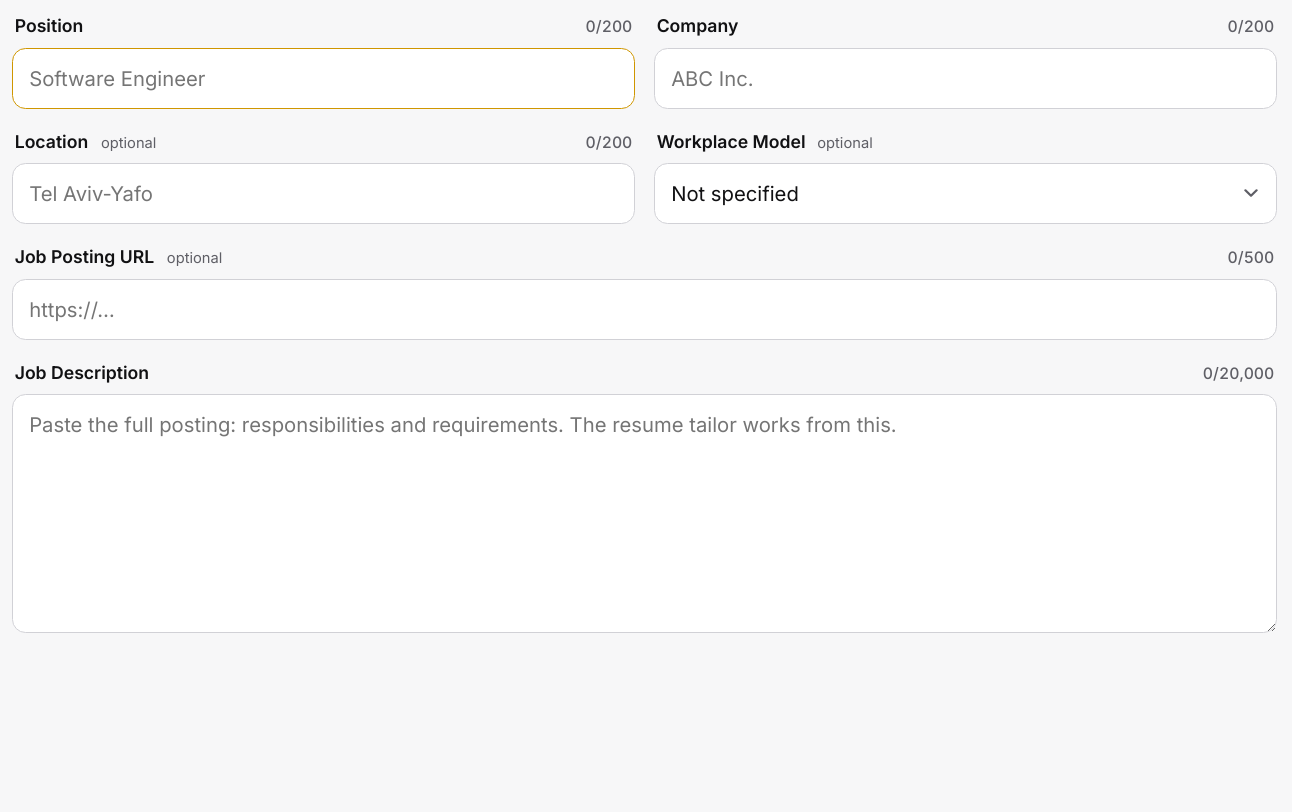
Scenario: JobPostForm duplicates › warns about the most recent application for the same position and company, with its date
Type "Backend Engineer" into the dropdown with placeholder "Software Engineer".
click(324, 78); type("Backend Engineer")  # box [12, 48, 635, 109]
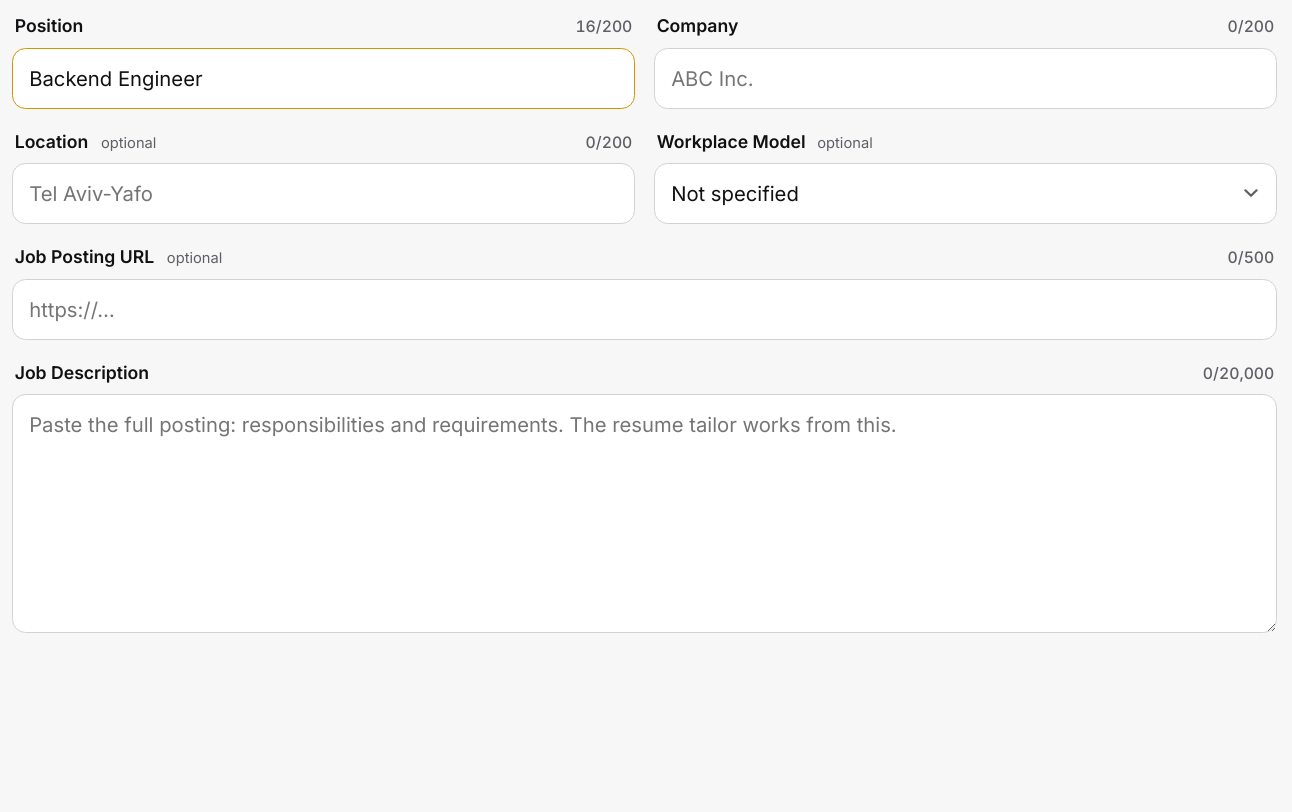
Type "Orbit" into the dropdown with placeholder "ABC Inc.".
click(965, 78); type("Orbit")  # box [654, 48, 1277, 109]
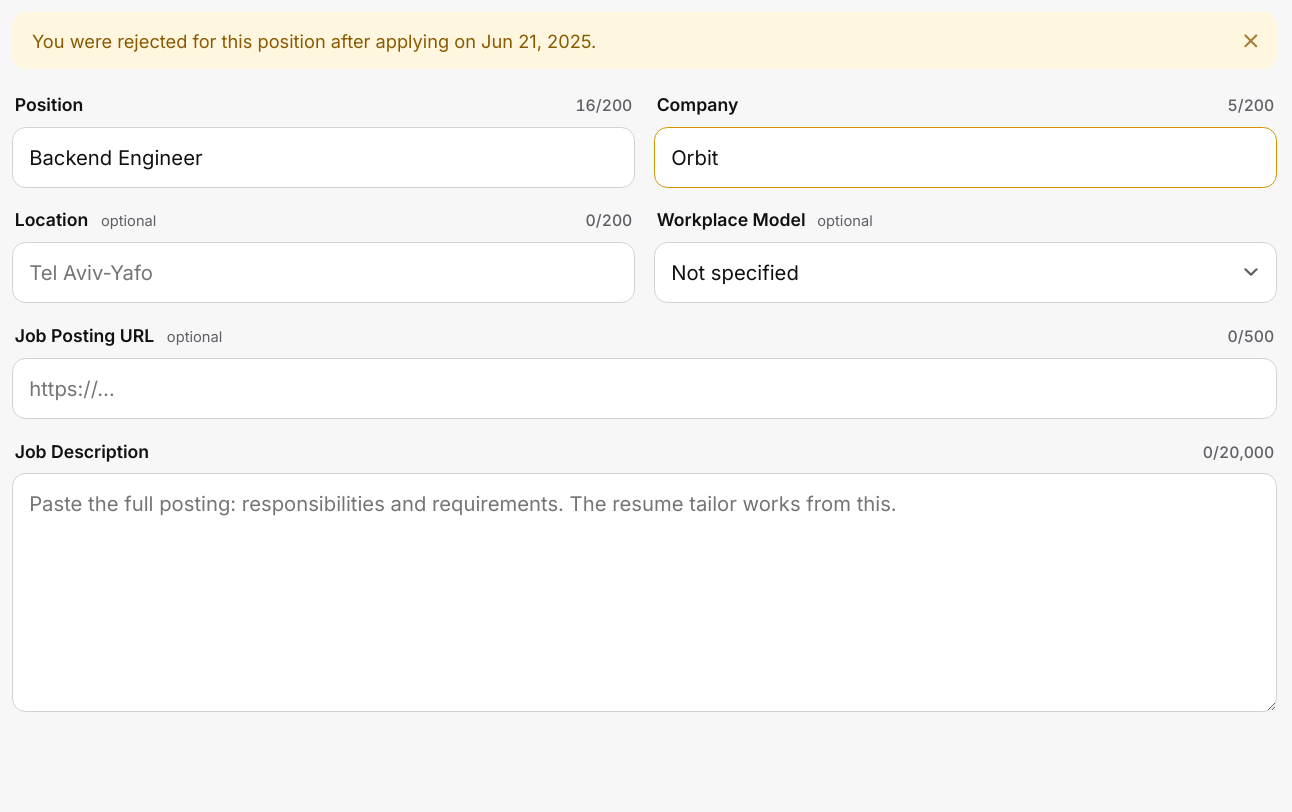
Now the message reads "You were rejected for this position after applying on Jun 21, 2025.", box [32, 30, 596, 52]
Now the message shows "2025", box [32, 30, 596, 52]
